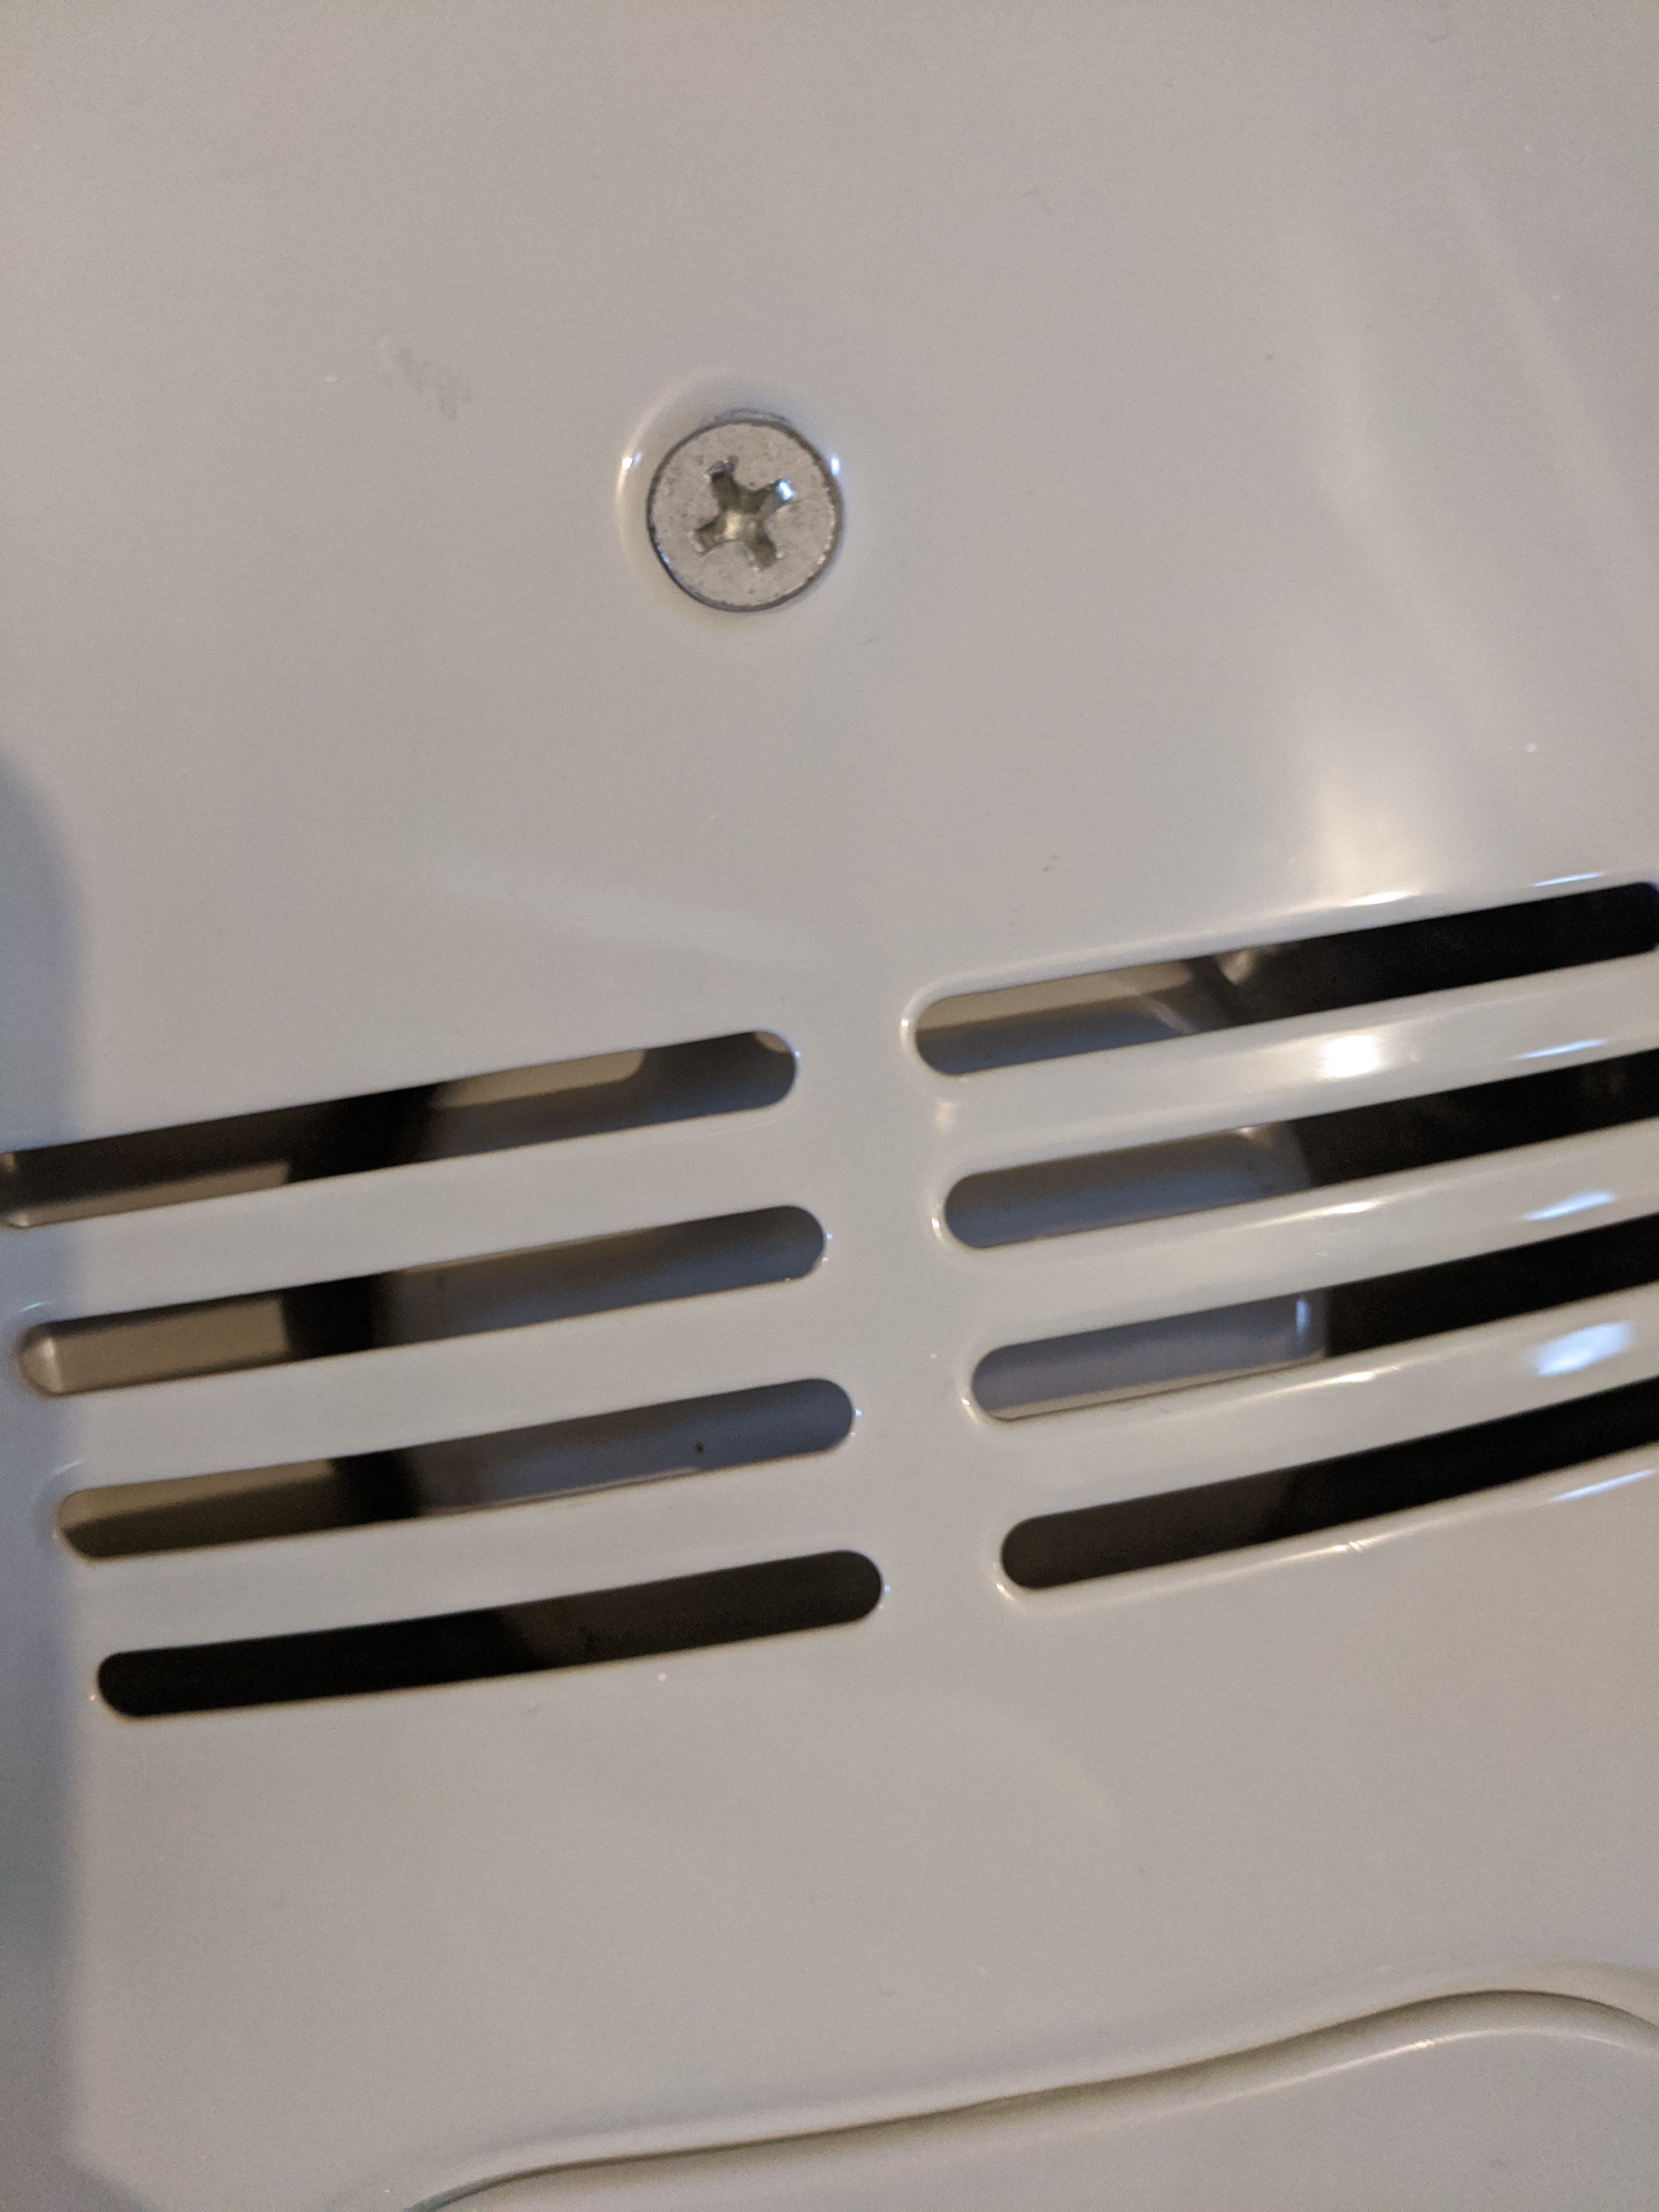cross_recessed_screw: (626, 411, 850, 610)
